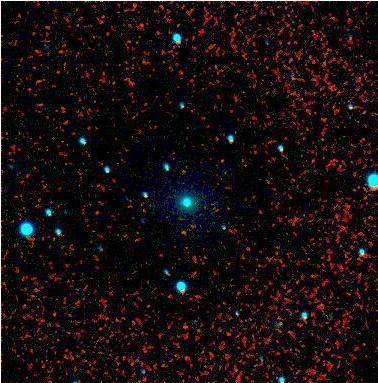star: (164, 216, 194, 246)
